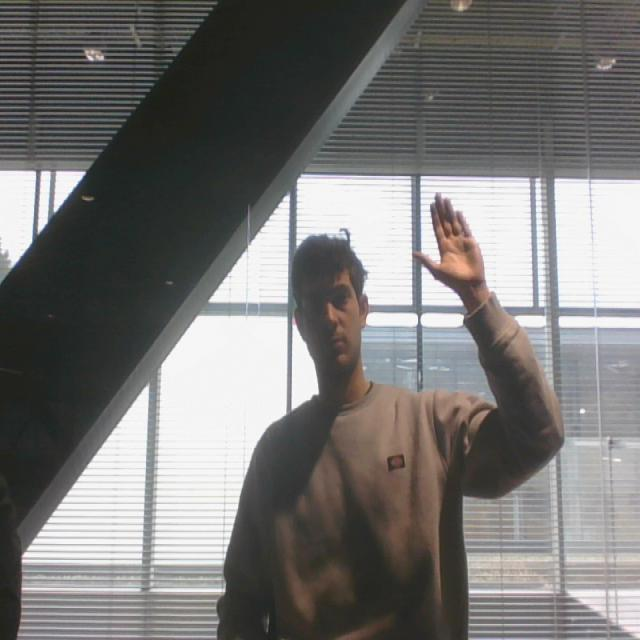backward: (408, 180, 490, 314)
